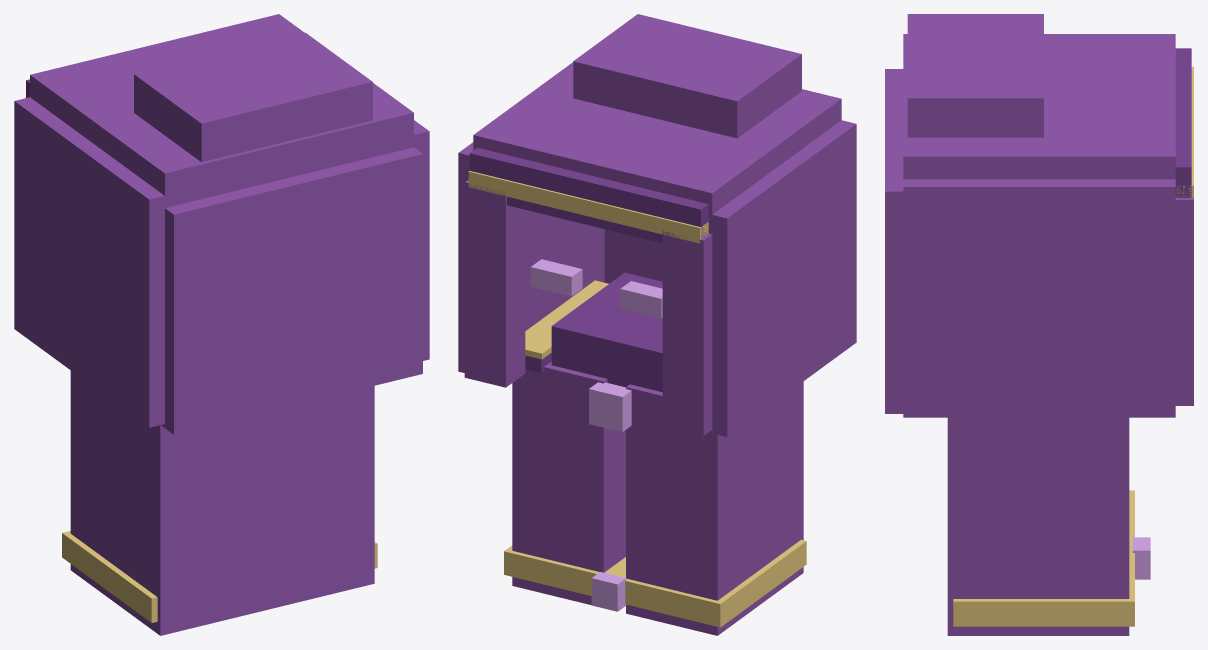
File: mago_sombrio_tronco.glb
3 renders of one model, left to right at view 1: azimuth 30°, elevation 25°; view 2: azimuth 150°, elevation 25°; view 3: azimuth 270°, elevation 25°, orthographic. The views are drawn at different scales.
Visible parts, largest first — view 1: mago_sombrio_tronco; view 2: mago_sombrio_tronco; view 3: mago_sombrio_tronco.
Part boxes in pixels (left/top/right/bottom): mago_sombrio_tronco: left=14, top=14, right=429, bottom=635; mago_sombrio_tronco: left=458, top=14, right=856, bottom=635; mago_sombrio_tronco: left=885, top=14, right=1193, bottom=635.
Bounding box in the file's own units: 0.72 × 1.28 × 0.68.
